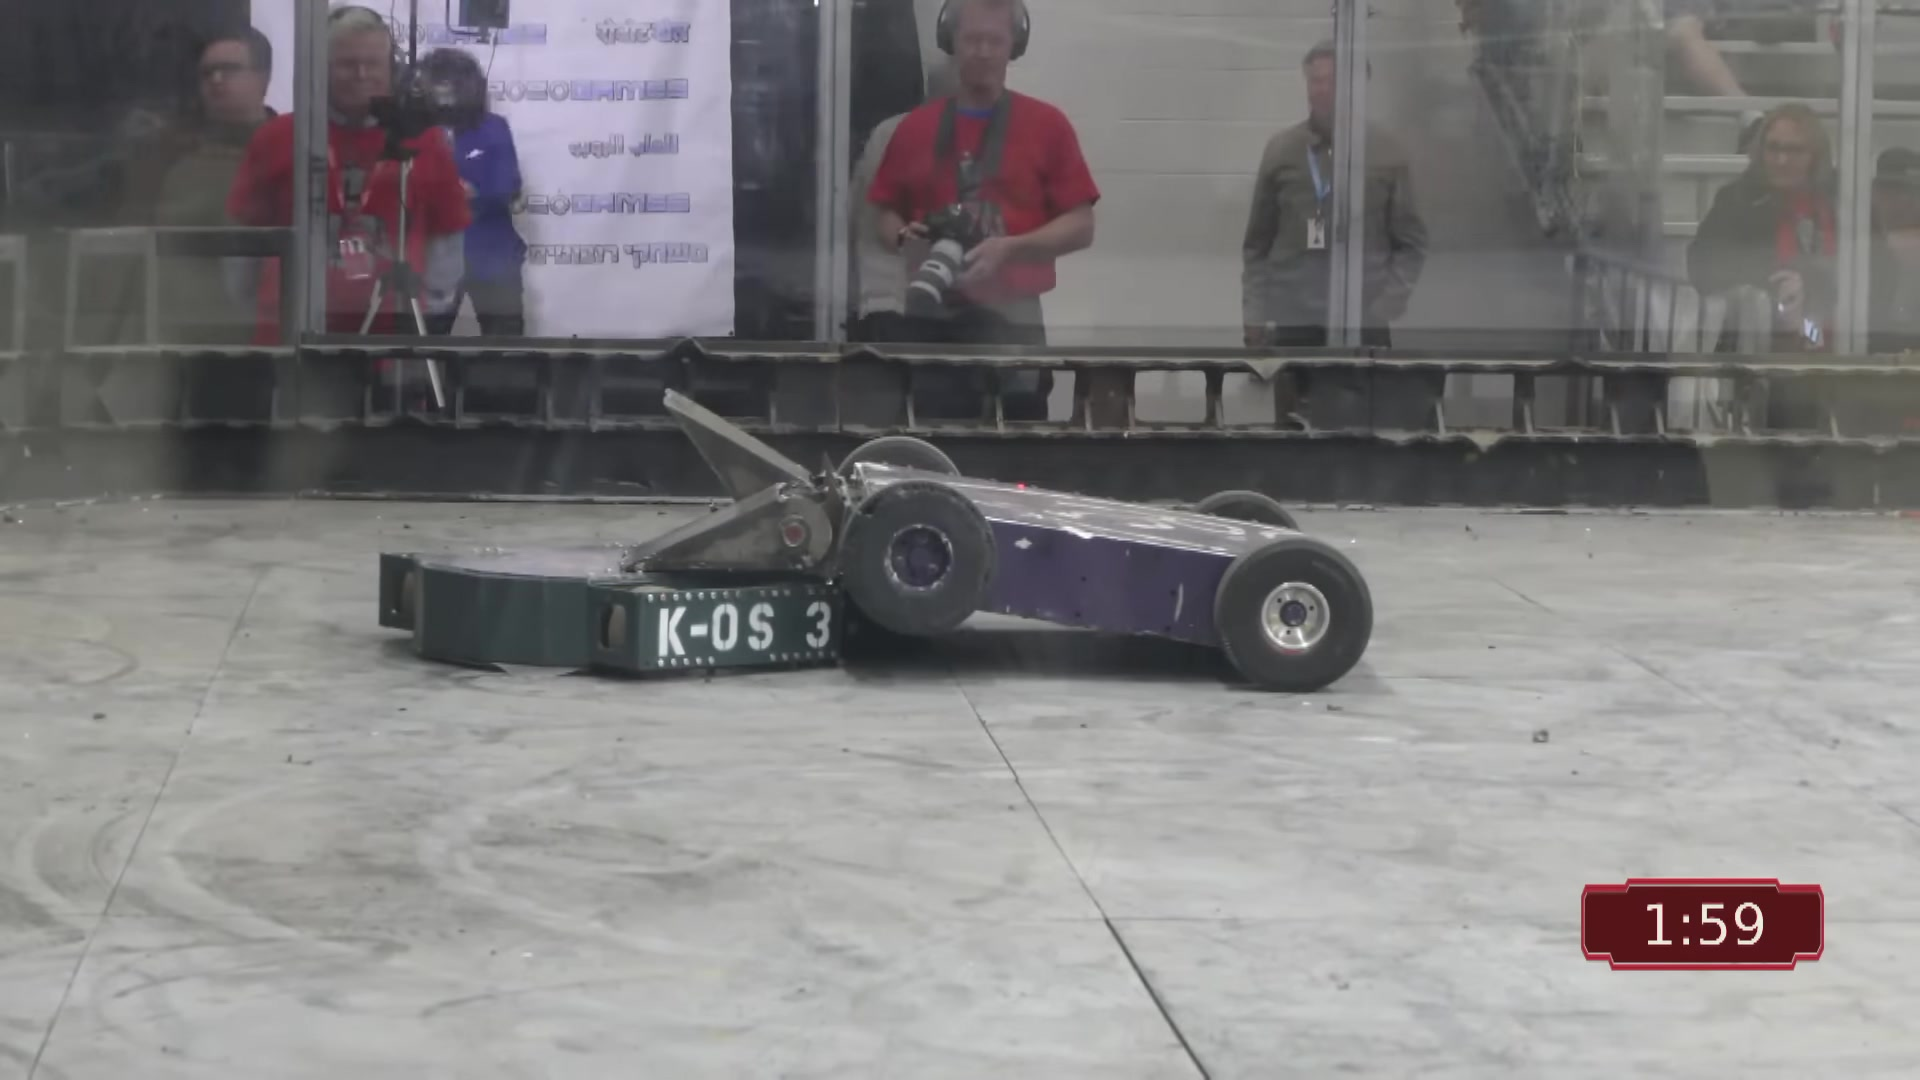combatbot: (840, 436, 1373, 692), (380, 546, 839, 667)
